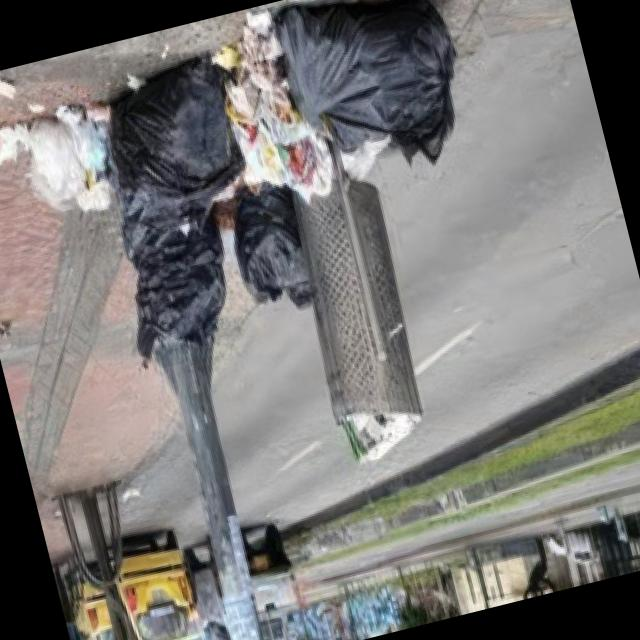high trash: (0, 0, 455, 359)
